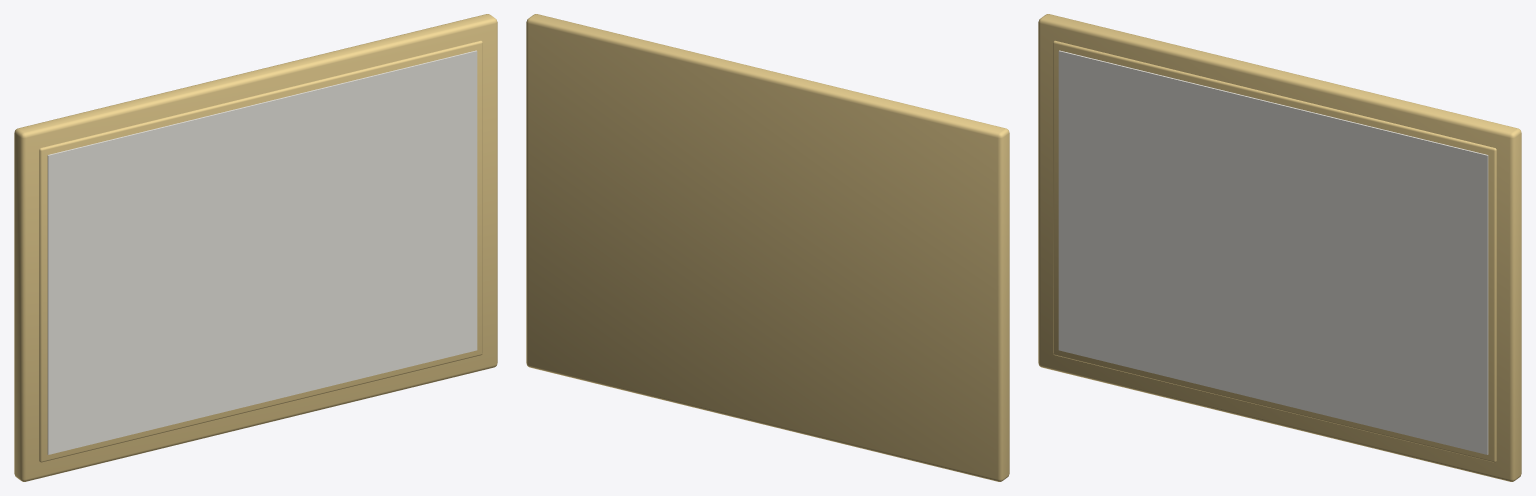
File: art_landscape.glb
3 renders of one model, left to right at view 1: azimuth 30°, elevation 25°; view 2: azimuth 150°, elevation 25°; view 3: azimuth 330°, elevation 25°, orthographic.
Parts seen in each view (by area): view 1: canvas, frame, inner; view 2: frame; view 3: canvas, frame, inner.
Part boxes in pixels (box(x1,y1,x2,y2)): canvas: box(47, 50, 477, 454); frame: box(14, 14, 497, 481); inner: box(39, 40, 482, 462); frame: box(526, 14, 1009, 481); canvas: box(1058, 50, 1488, 454); frame: box(1038, 14, 1521, 481); inner: box(1053, 40, 1496, 462).
Size of the model in its own units: 1 by 0.7 by 0.0425.
